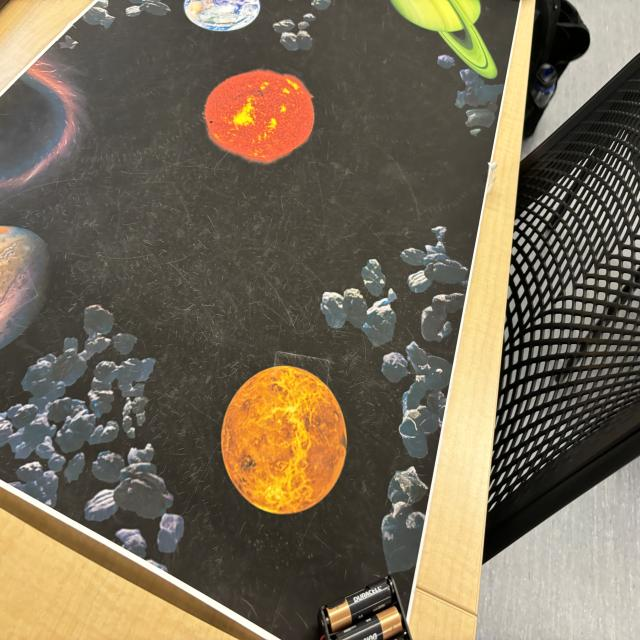Asteroids: (330, 218, 474, 563), (21, 311, 183, 549), (448, 68, 499, 136), (282, 0, 334, 48)
Black Hole: (1, 58, 73, 190)
Earth: (181, 0, 262, 30)
Jupiter: (0, 223, 51, 356)
Saturn: (391, 0, 500, 72)
Sun: (205, 69, 317, 167)
Venus: (218, 363, 348, 512)
